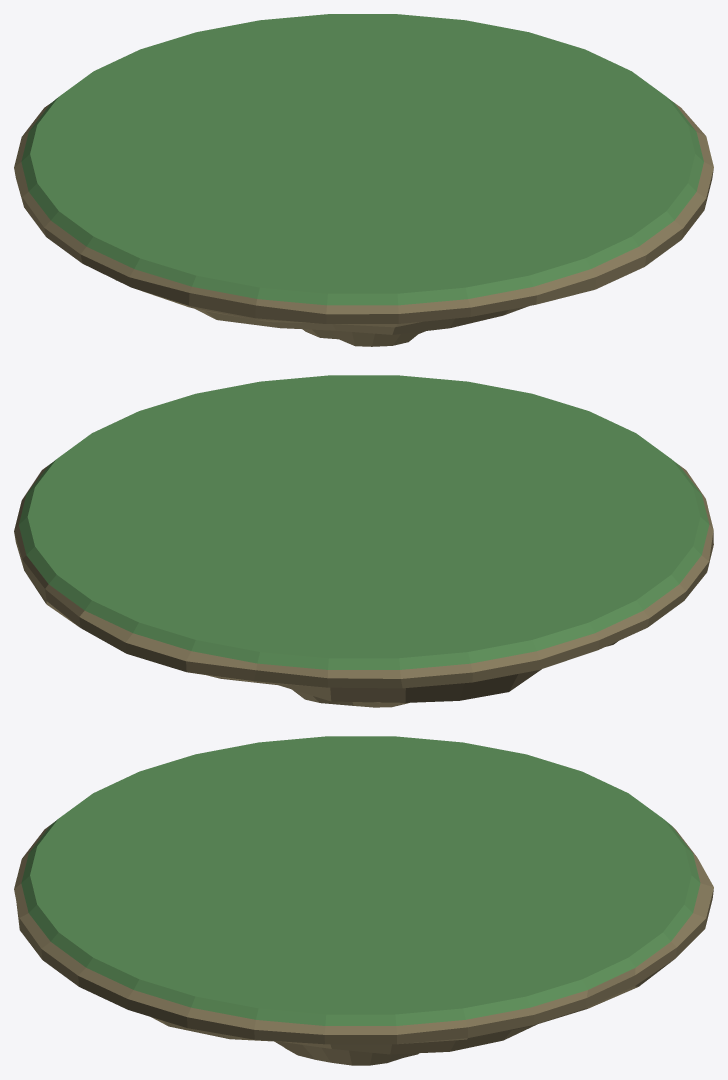
The model's file is ISLAND_1.fbx.
The picture shows the model from 3 angles, top to bottom: view 1: azimuth 30°, elevation 25°; view 2: azimuth 150°, elevation 25°; view 3: azimuth 270°, elevation 25°; orthographic projection.
Parts seen in each view (by area): view 1: Cylinder; view 2: Cylinder; view 3: Cylinder.
Part boxes in pixels (x1,y1,x2,y2): Cylinder: [14, 14, 713, 346]; Cylinder: [14, 375, 713, 707]; Cylinder: [14, 736, 713, 1065].
Size of the model in its own units: 4617 by 1341 by 4685.
